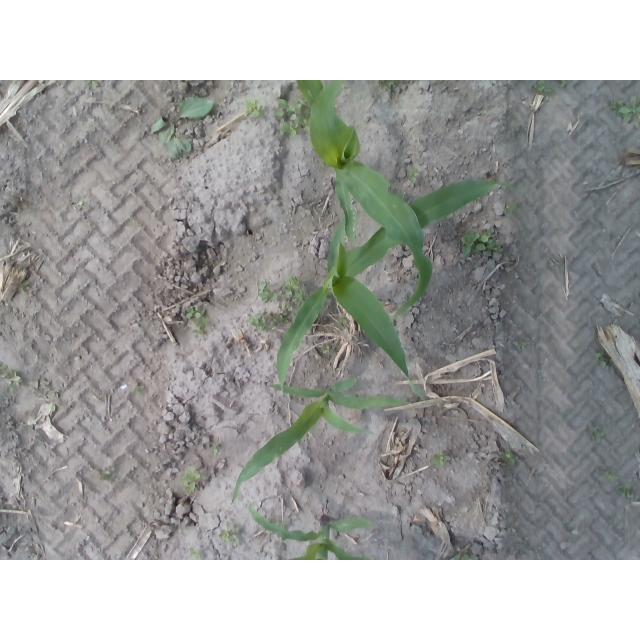Maize: (277, 179, 511, 393), (297, 81, 436, 323), (231, 376, 411, 506), (247, 501, 370, 560)
Weeds: (149, 97, 212, 155), (277, 98, 302, 135), (457, 230, 495, 254), (611, 96, 640, 125), (250, 310, 278, 332), (281, 278, 305, 303), (186, 308, 208, 333), (182, 467, 199, 494), (258, 281, 276, 301), (279, 302, 293, 325), (432, 452, 451, 465), (98, 465, 114, 480), (245, 100, 259, 117), (594, 350, 606, 367), (592, 426, 604, 443), (220, 529, 237, 541), (618, 484, 634, 496), (536, 80, 549, 94), (5, 370, 20, 382), (455, 552, 476, 560), (504, 452, 516, 464), (0, 362, 8, 379), (412, 169, 420, 183), (606, 471, 616, 481), (190, 550, 201, 559), (557, 80, 569, 86), (322, 345, 330, 353), (213, 449, 220, 456)
